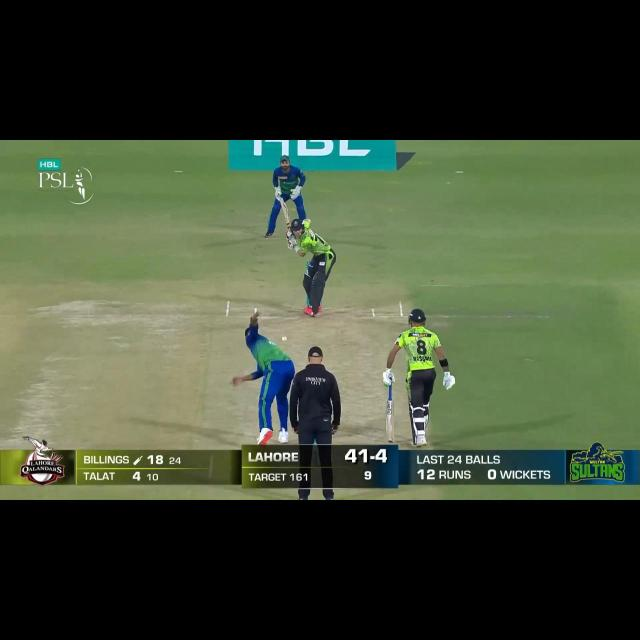bat: (385, 398, 395, 443), (280, 198, 291, 230)
toe: (386, 437, 395, 444), (280, 198, 286, 207)
